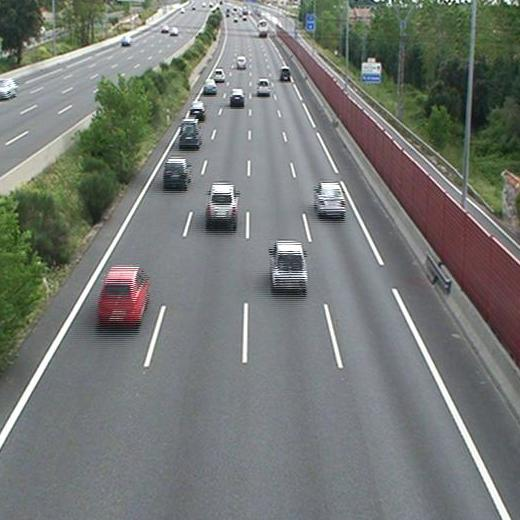bus: (258, 20, 268, 37)
car: (98, 267, 147, 321), (271, 242, 307, 288), (207, 183, 236, 224), (314, 185, 345, 215), (163, 160, 189, 187), (179, 121, 200, 145), (230, 88, 245, 105), (189, 102, 205, 116), (256, 80, 271, 94), (203, 79, 216, 93), (213, 69, 224, 82), (279, 68, 291, 79), (236, 57, 246, 68)
